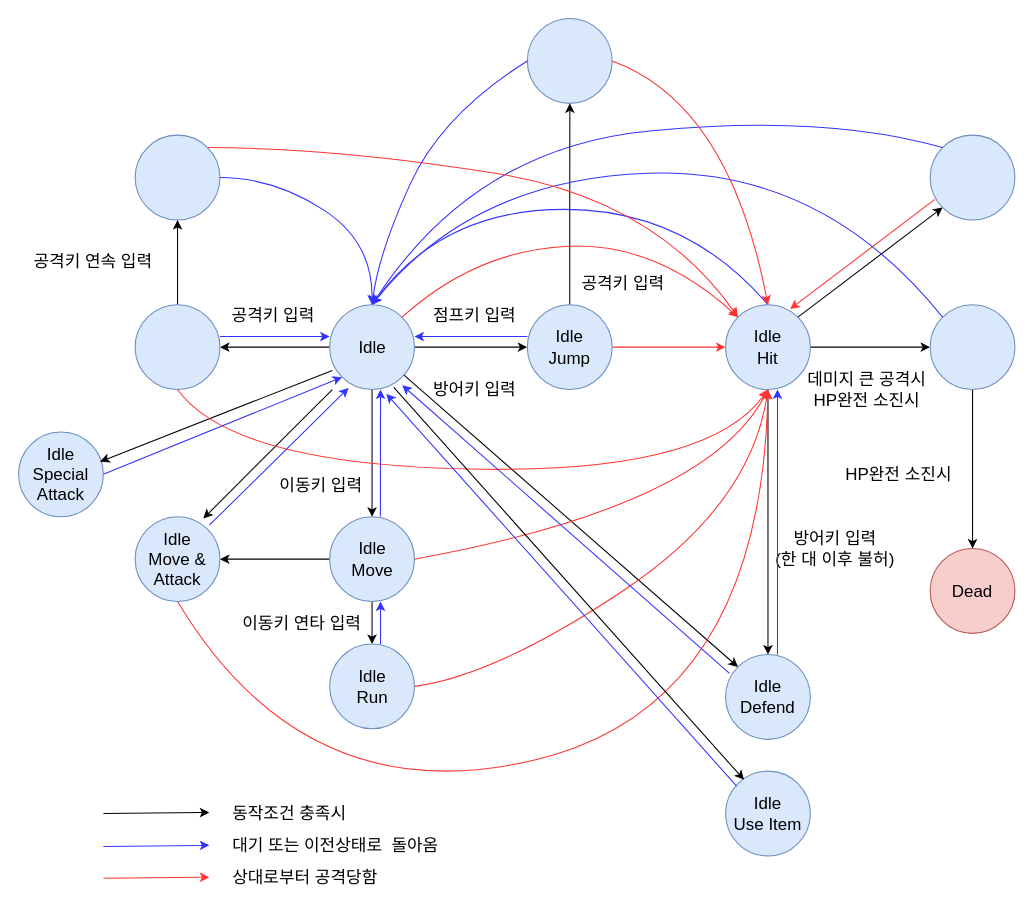
The diagram is 1034 pixels wide and 906 high, and some of its shapes have lost their labels. The centre of each missing label's shape, as x and y in pixels:
"Falling /Landing" belongs at point 972,347.
"Idle Attack" belongs at point 177,347.
"Idle Double Attack" belongs at point 177,177.
"Idle Jump & Attack" belongs at point 569,60.
"Idle Stun" belongs at point 972,177.
